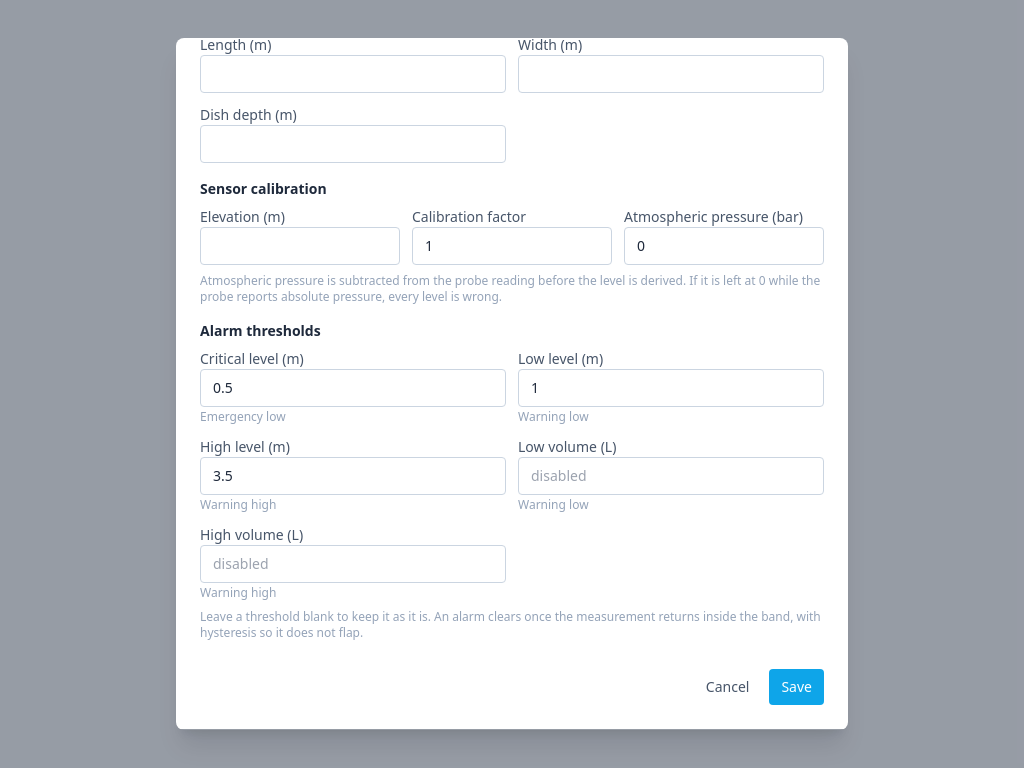
Test case: EditTankDialog › surfaces the server error verbatim
(page scrolled)
Click the button "Save" at x=797, y=687, box [769,669,824,705]
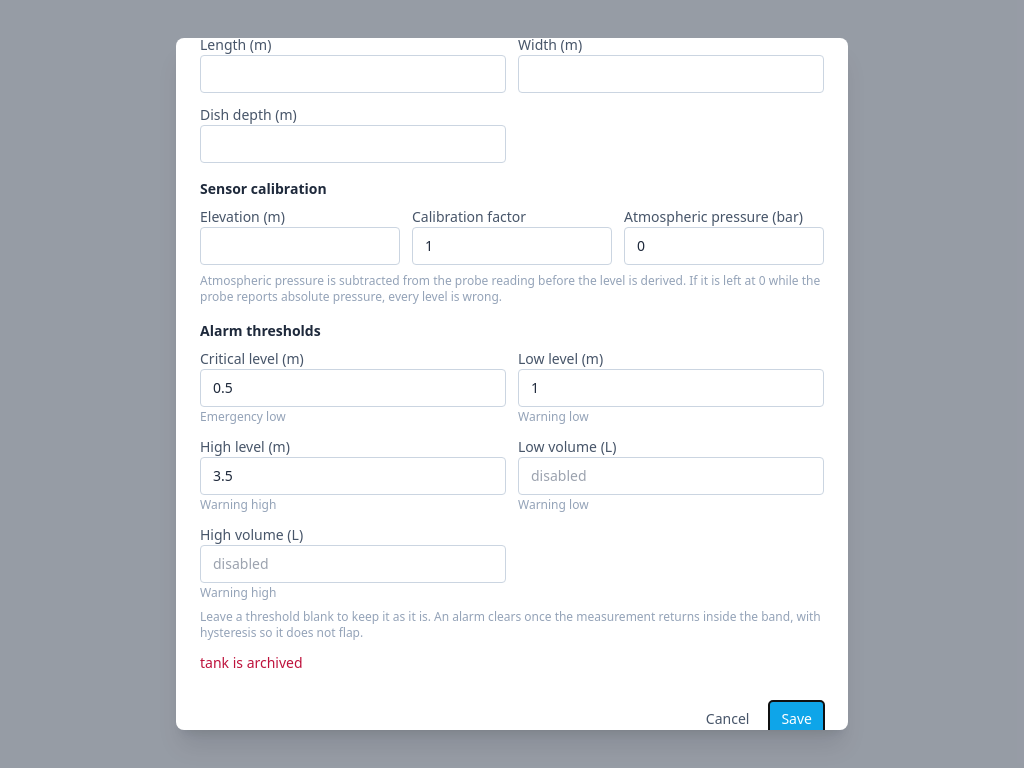
Now the text "tank is archived" is shown, box [200,653,303,672]
